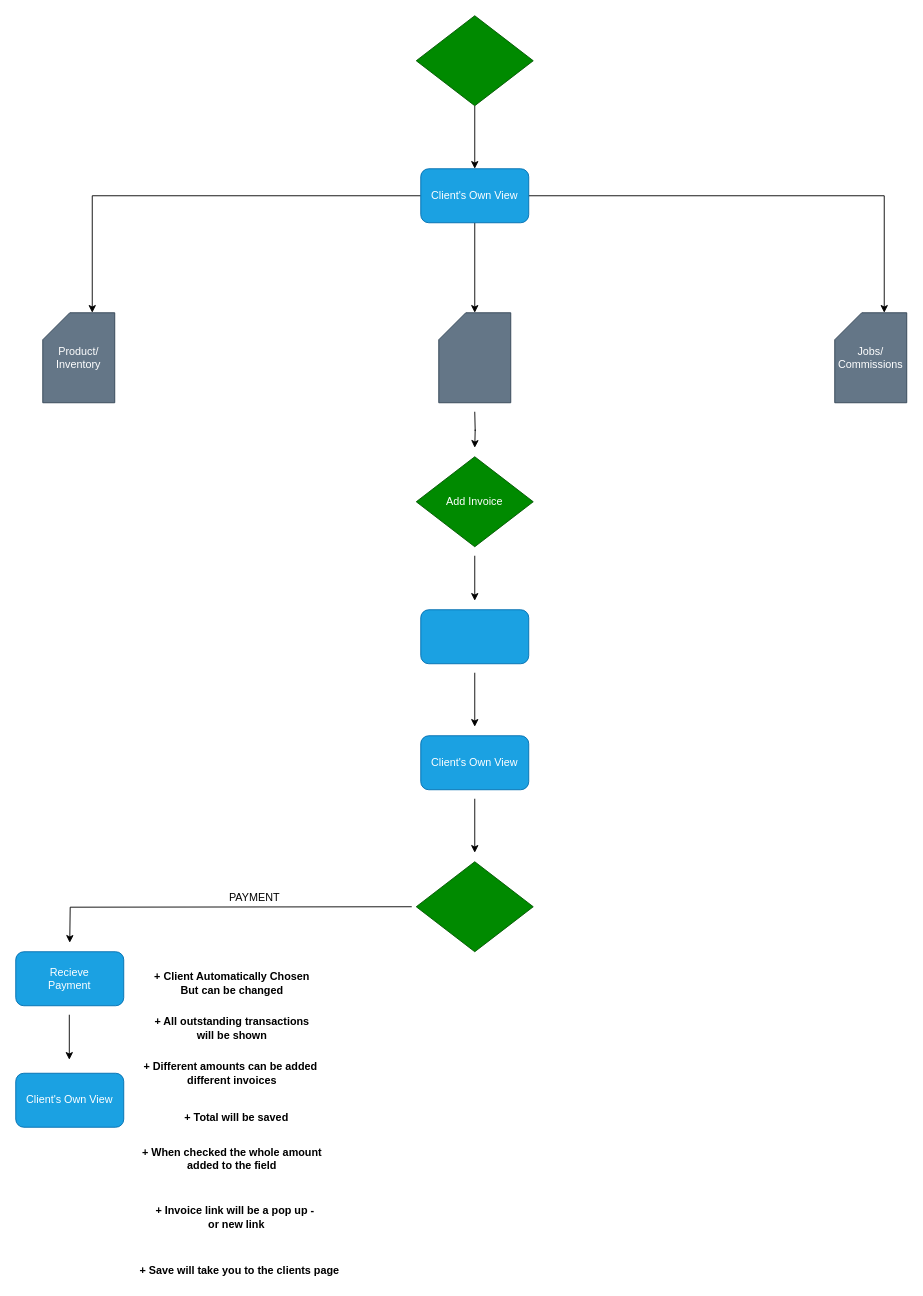
This 923x1296 diagram has some shape labels left out. Here are the shapes that lost their labels. From the top down, the centre of each, then its label:
At point (474, 60): "Add Client".
At point (474, 357): "Sales".
At point (474, 636): "Invoice Form".
At point (474, 906): "New Transaction".
